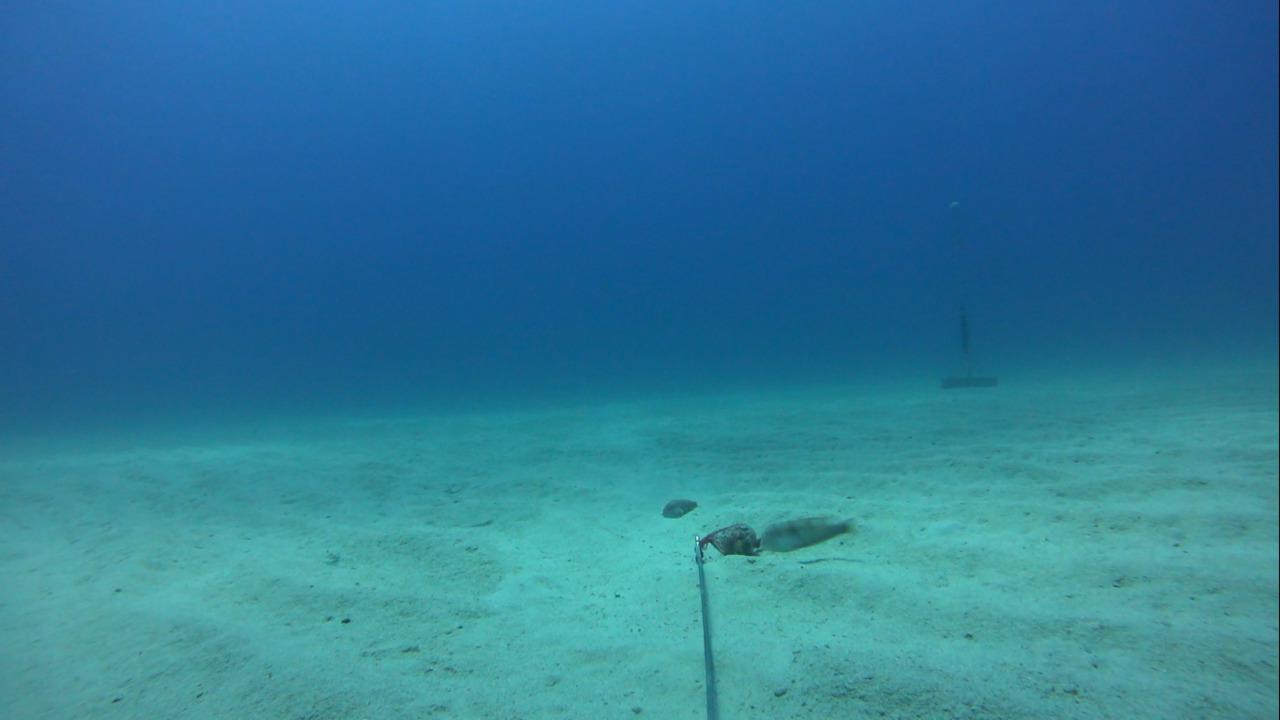raor: (754, 503, 858, 559), (652, 490, 707, 523)
